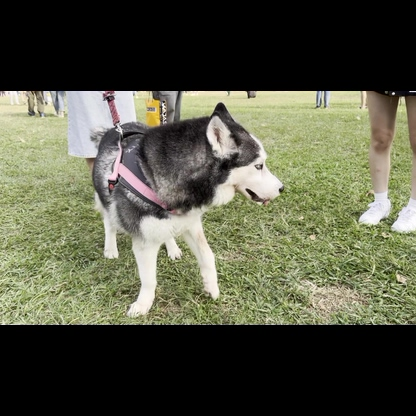husky: (81, 100, 288, 321)
